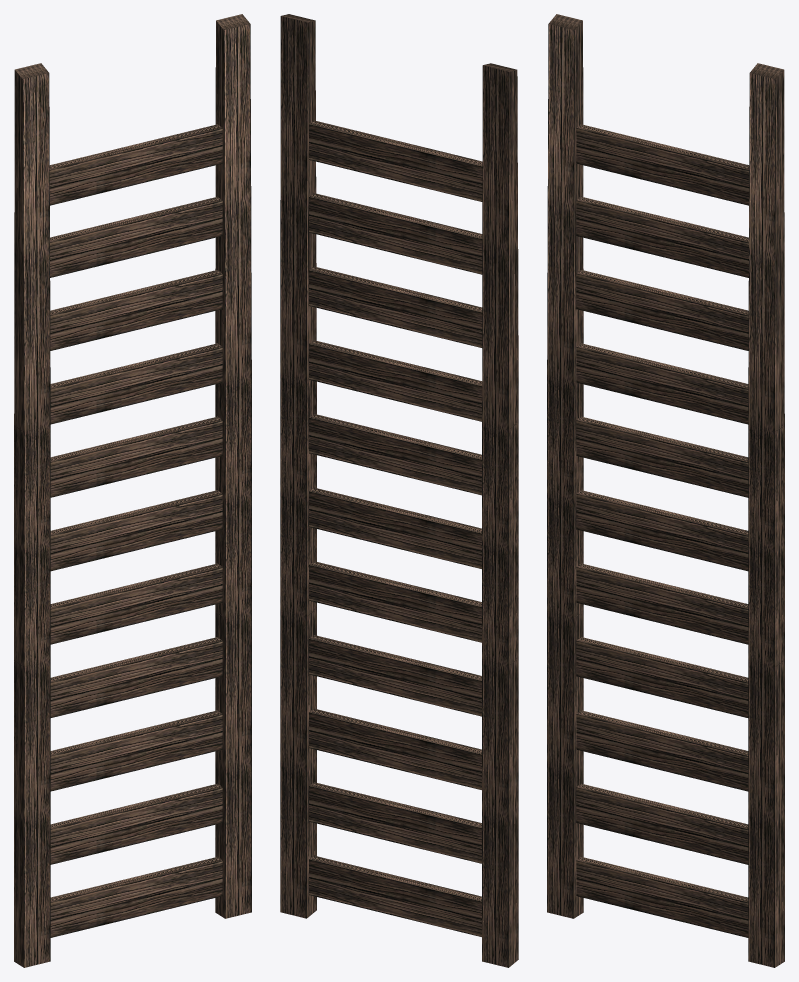
Rendered from CB_LOOKOUT_LADDER.fbx.
3 renders of one model, left to right at view 1: azimuth 30°, elevation 25°; view 2: azimuth 150°, elevation 25°; view 3: azimuth 330°, elevation 25°, orthographic.
Visible parts, largest first — view 1: CB_LOOKOUT_LADDER; view 2: CB_LOOKOUT_LADDER; view 3: CB_LOOKOUT_LADDER.
Part boxes in pixels (x1,y1,x2,y2): CB_LOOKOUT_LADDER: [14, 14, 251, 967]; CB_LOOKOUT_LADDER: [280, 14, 518, 967]; CB_LOOKOUT_LADDER: [547, 14, 784, 967].
Bounding box in the file's own units: 12844 × 48108 × 986.
1 material, 1 textured.
